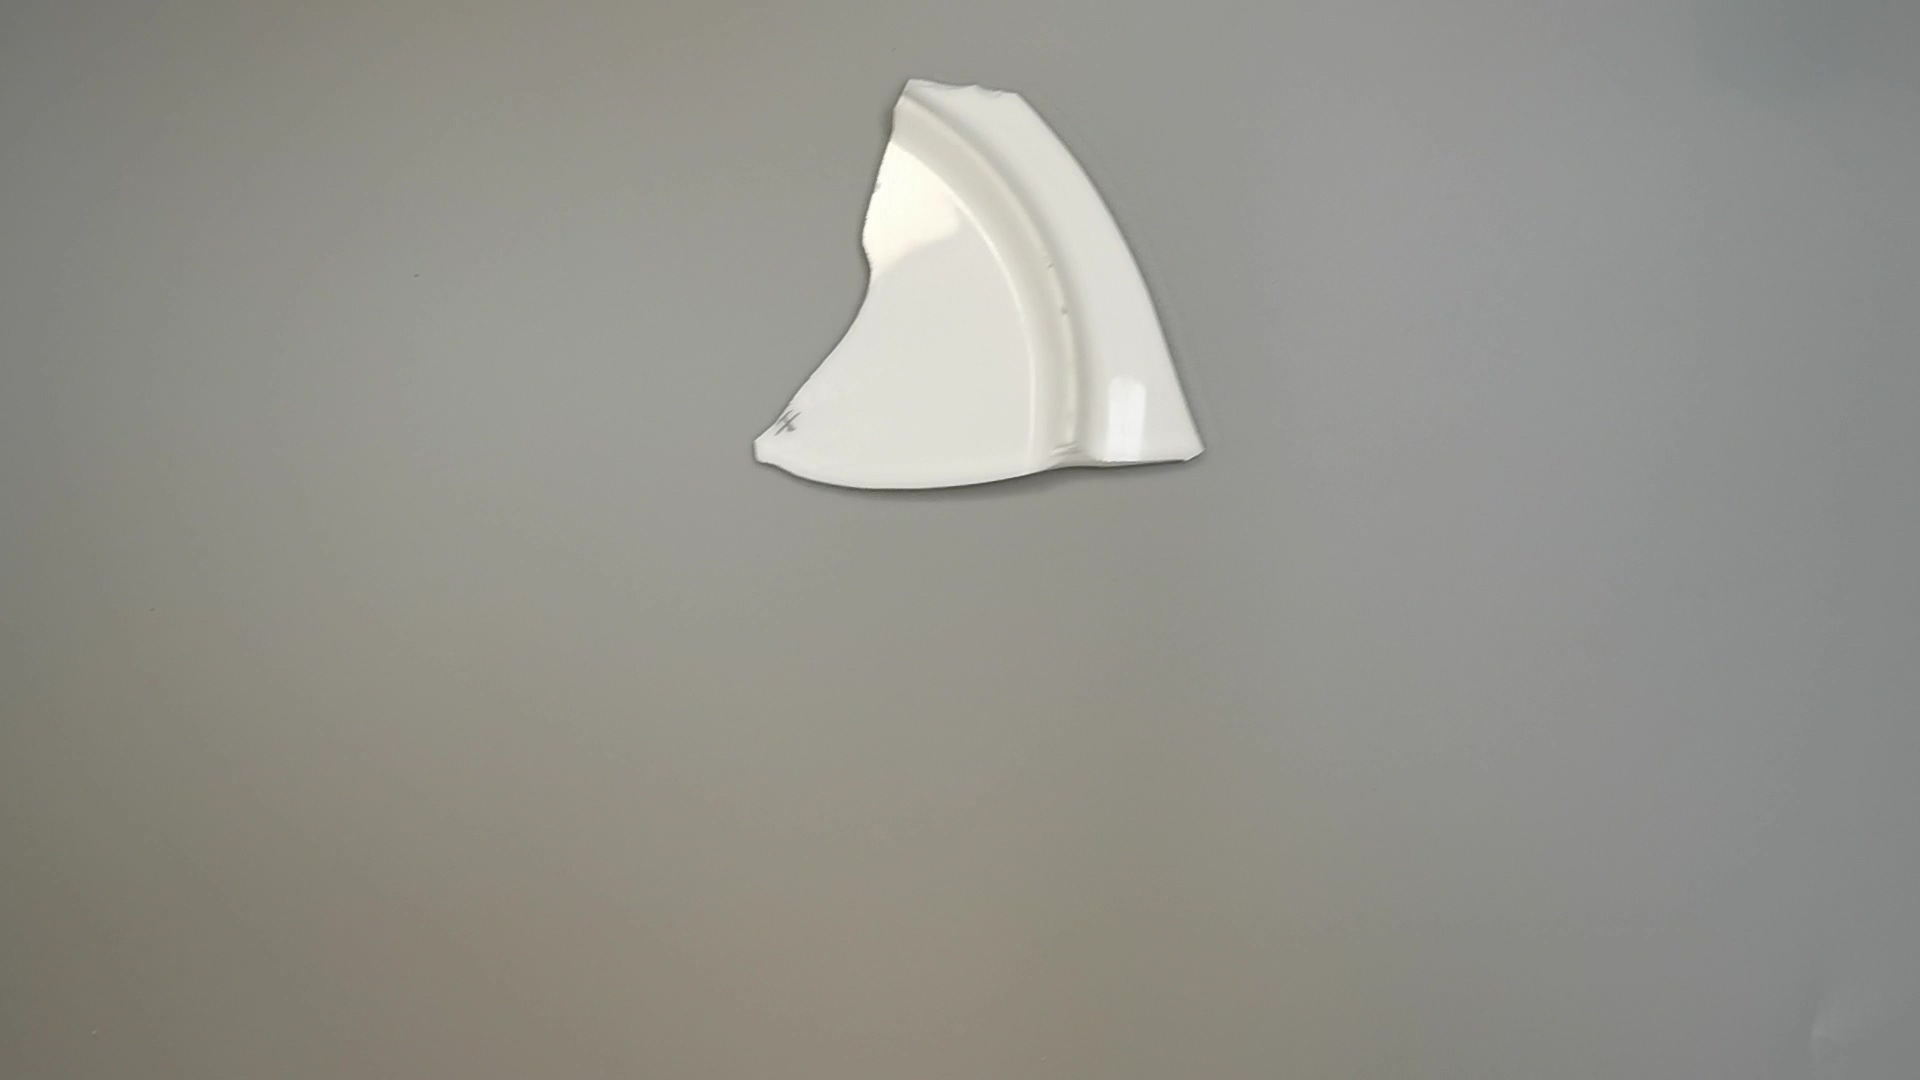ceramic: (741, 73, 1211, 505)
